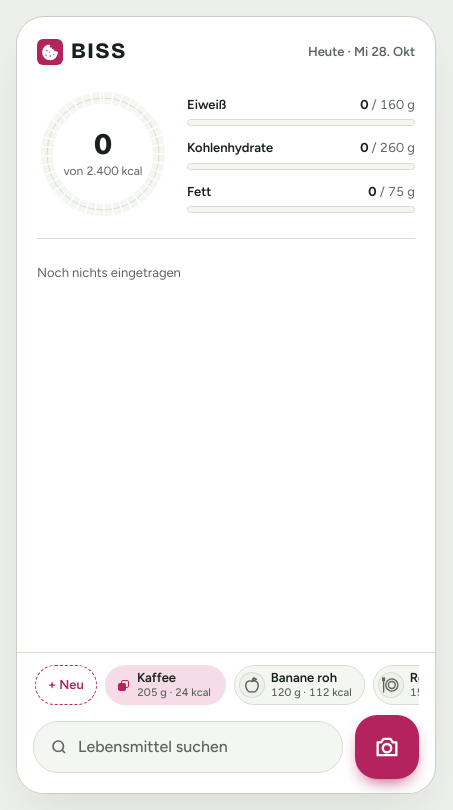
Test: the diary lists entries and groups newest first, each with its time
Click the button "Banane roh 120 g · 112 kcal" at (299, 685), box [234, 665, 365, 705]
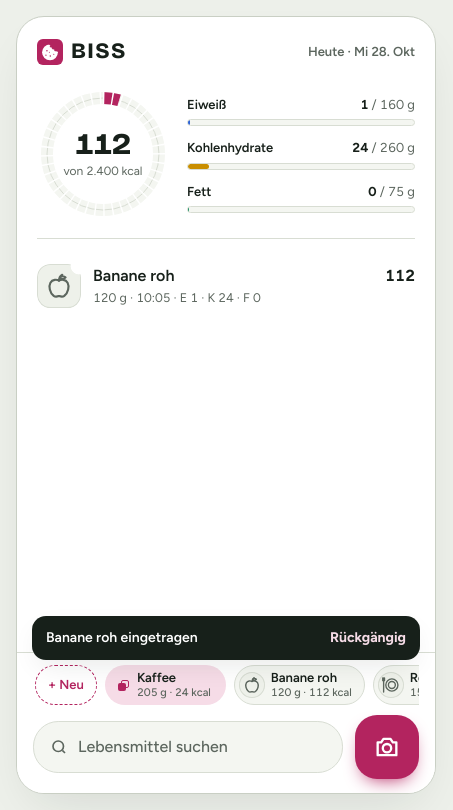
Result: the text "Banane roh eingetragen" is shown at [46, 628, 198, 648]
Click the button with aria-label "Schnellzugriff Kaffee" at (165, 685), box [105, 665, 226, 705]
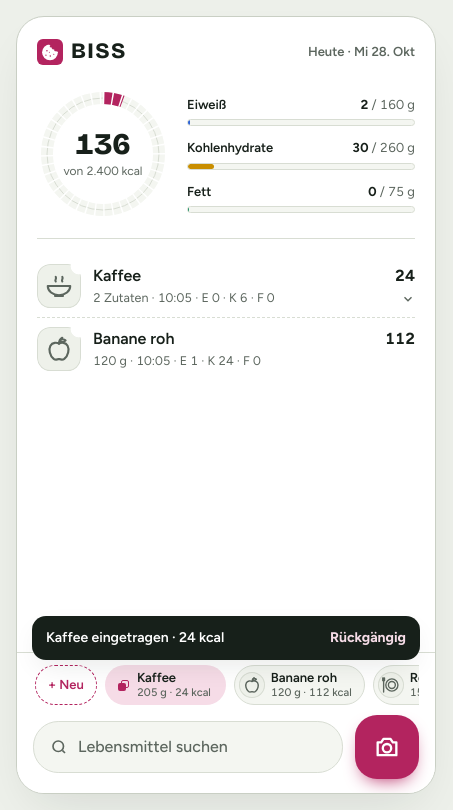
Result: the button "Banane roh 112 120 g · 10:05 · E 1 · K 24 · F 0" is shown at [37, 318, 415, 380]
Result: the text "Kaffee eingetragen · 24 kcal" is shown at [46, 628, 224, 648]
